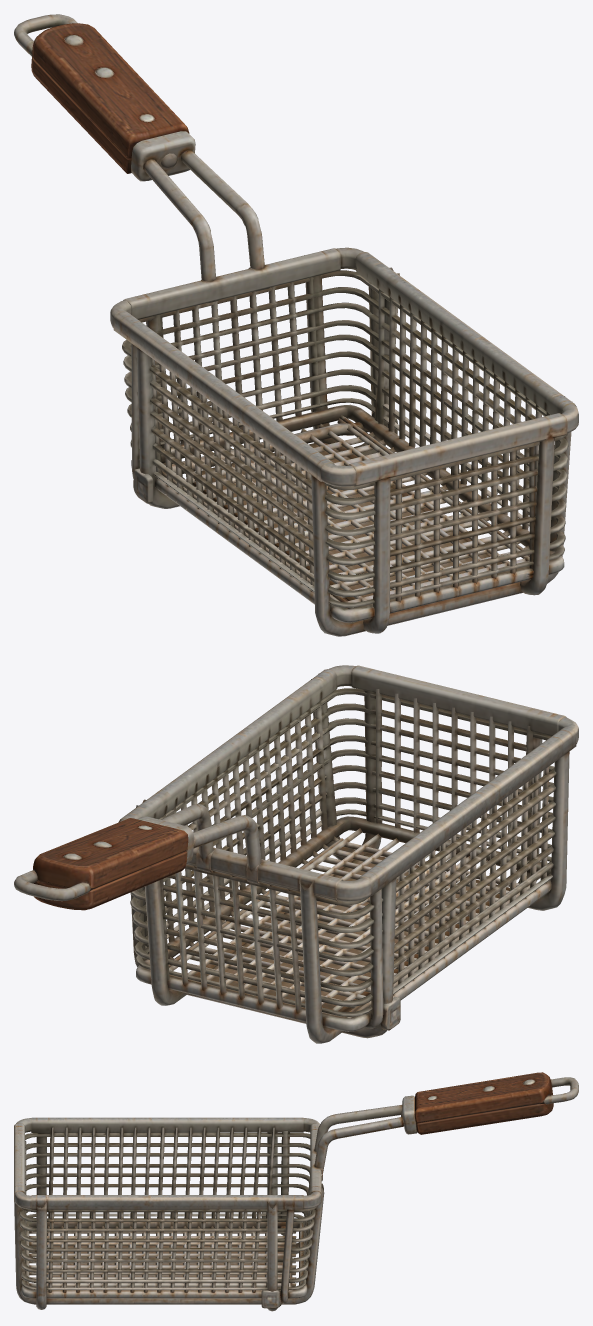
Rendered from P17_fryer_basket_Runtime_1k.glb.
The picture shows the model from 3 angles, top to bottom: view 1: azimuth 30°, elevation 25°; view 2: azimuth 150°, elevation 25°; view 3: azimuth 270°, elevation 25°; orthographic projection. The views are drawn at different scales.
Parts seen in each view (by area): view 1: tripo_node_881bb1b1; view 2: tripo_node_881bb1b1; view 3: tripo_node_881bb1b1.
Boxes of the visible parts, x1,y1,x2,y2 form: tripo_node_881bb1b1: (14, 14, 578, 636); tripo_node_881bb1b1: (14, 665, 578, 1043); tripo_node_881bb1b1: (14, 1072, 578, 1311).
Bounding box in the file's own units: 0.1997 × 0.223 × 0.57.
1 material, 1 textured.
